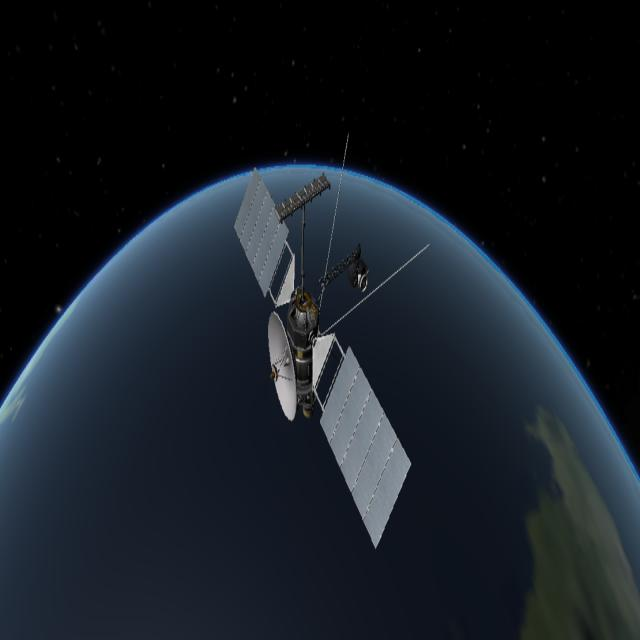medium_debris: (213, 126, 451, 582)
